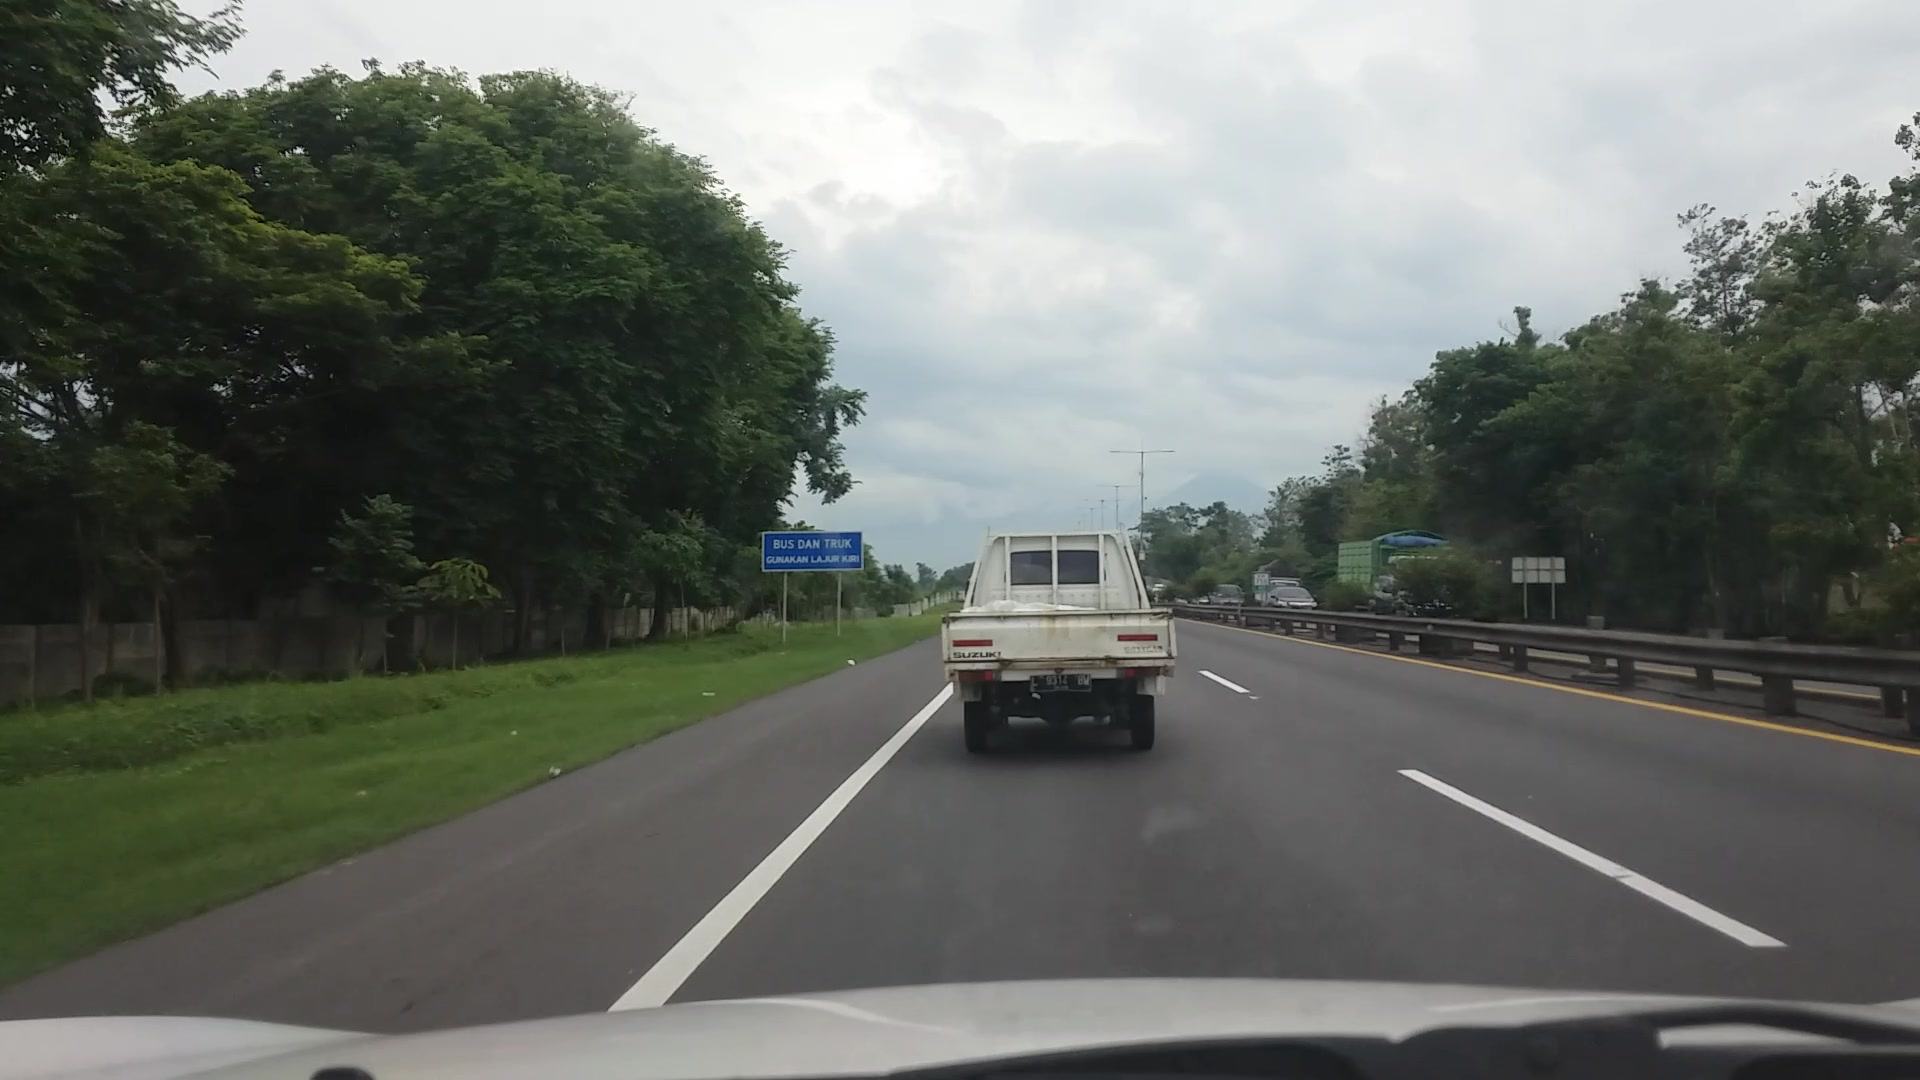plate_positive: (1029, 673, 1091, 694)
